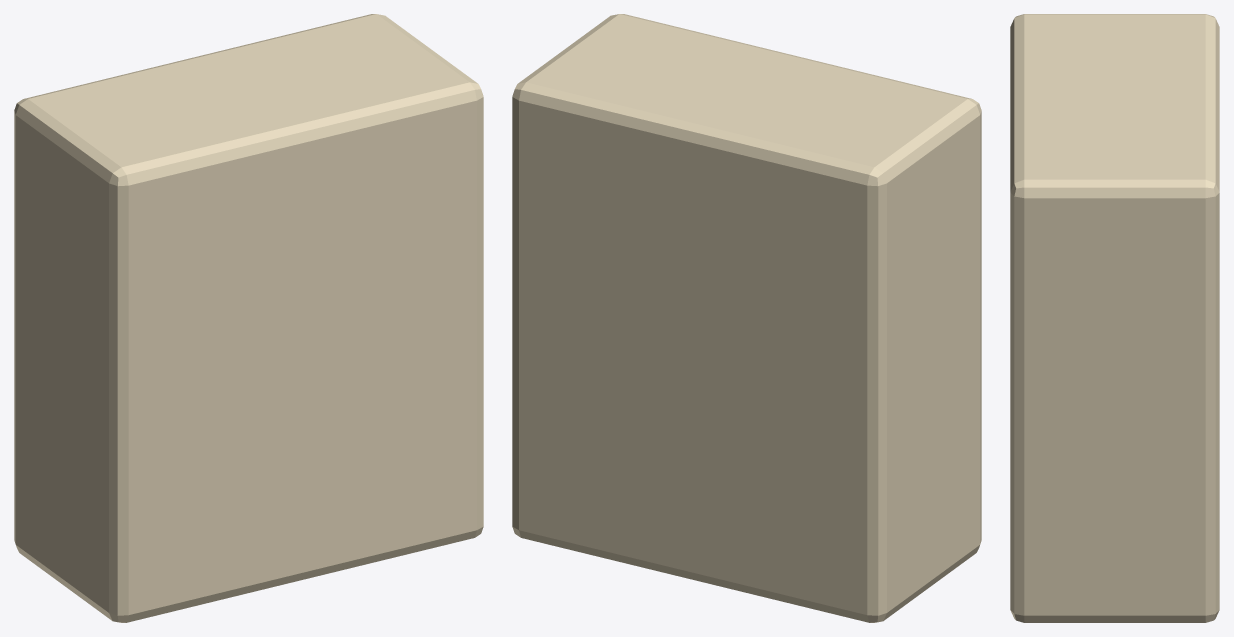
File: ArenaGate_Trim.fbx
3 views of the same model, side by side, from view 1: azimuth 30°, elevation 25°; view 2: azimuth 150°, elevation 25°; view 3: azimuth 270°, elevation 25° (orthographic). The views are drawn at different scales.
Parts seen in each view (by area): view 1: ArenaGateKeystone.001; view 2: ArenaGateKeystone.001; view 3: ArenaGateKeystone.001.
Part boxes in pixels (<box>): ArenaGateKeystone.001: <box>14,14,483,622</box>; ArenaGateKeystone.001: <box>512,14,981,622</box>; ArenaGateKeystone.001: <box>1010,14,1219,622</box>.
Size of the model in its own units: 600 by 700 by 300.
